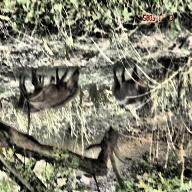boar: (31, 62, 80, 112), (111, 60, 160, 104)
